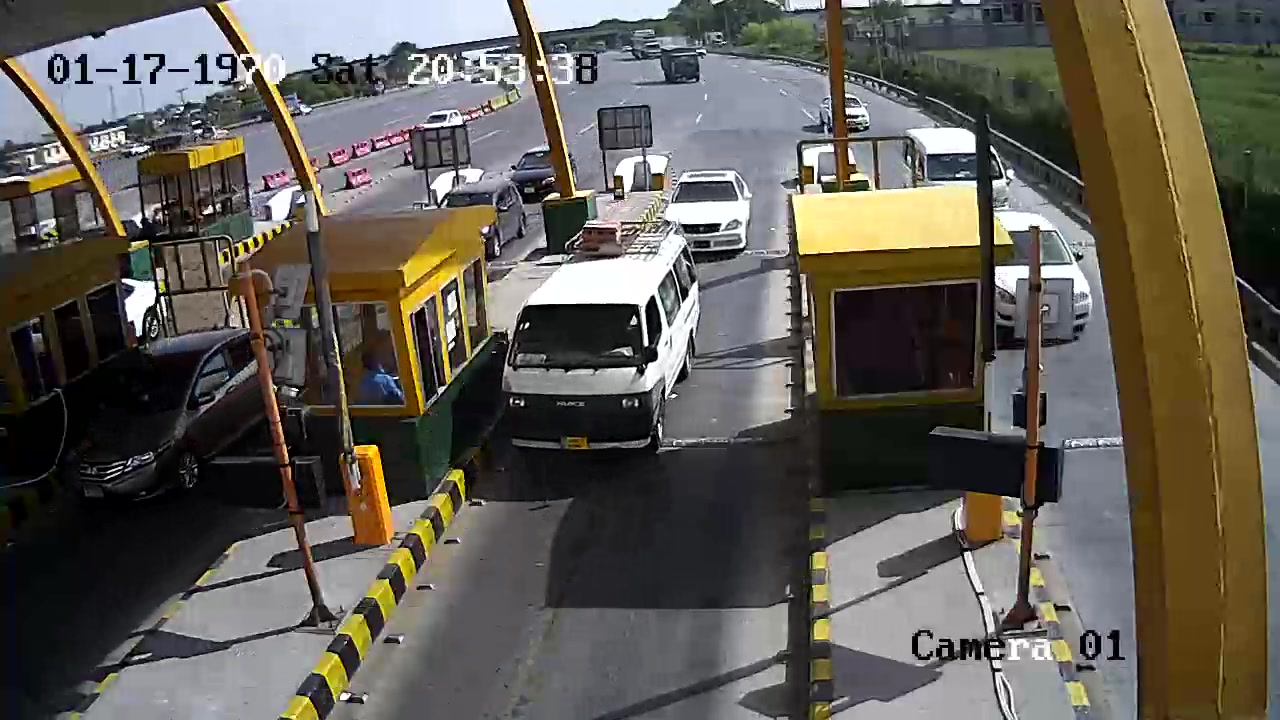F2: (499, 222, 698, 468)
